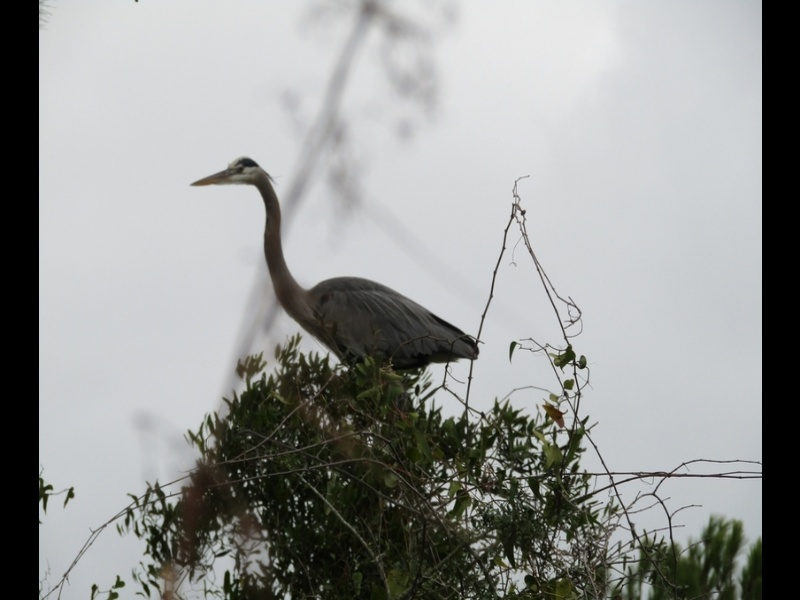heron: (188, 154, 482, 384)
